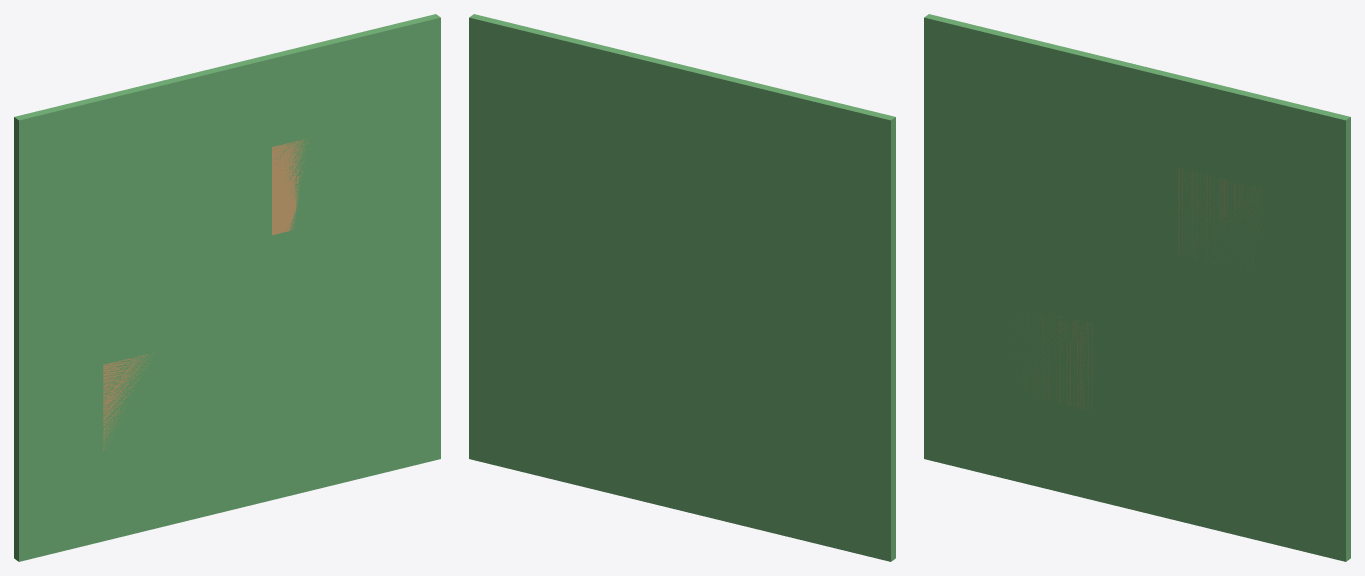
Rendered from board.glb.
3 renders of one model, left to right at view 1: azimuth 30°, elevation 25°; view 2: azimuth 150°, elevation 25°; view 3: azimuth 330°, elevation 25°, orthographic.
Parts seen in each view (by area): view 1: Substrate_Layer_0, Substrate_Layer_2, Substrate_Layer_1; view 2: Substrate_Layer_0; view 3: Substrate_Layer_0, Substrate_Layer_2, Substrate_Layer_1.
Part boxes in pixels (x1,y1,x2,y2): Substrate_Layer_0: [14, 14, 440, 561]; Substrate_Layer_2: [272, 138, 309, 235]; Substrate_Layer_1: [103, 353, 154, 451]; Substrate_Layer_0: [469, 14, 895, 561]; Substrate_Layer_0: [924, 14, 1350, 561]; Substrate_Layer_2: [1178, 168, 1261, 269]; Substrate_Layer_1: [1008, 314, 1092, 410].
Size of the model in its own units: 0.01 by 0.01 by 0.0002.
